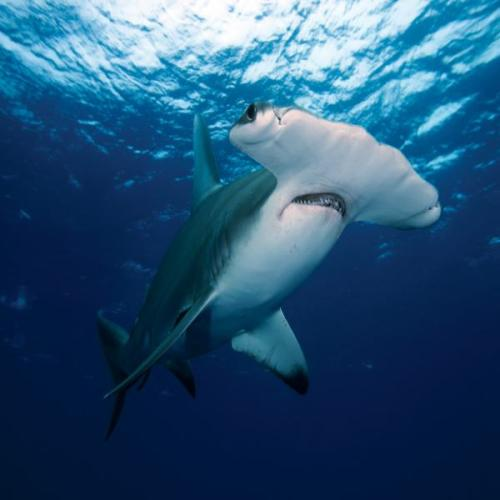shark-endangered: (91, 102, 442, 454)
